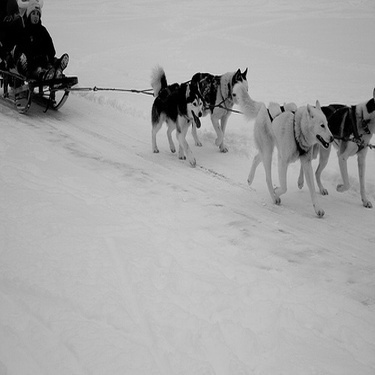dog: (223, 73, 339, 219), (301, 90, 372, 209), (181, 63, 254, 155), (143, 62, 201, 164)
